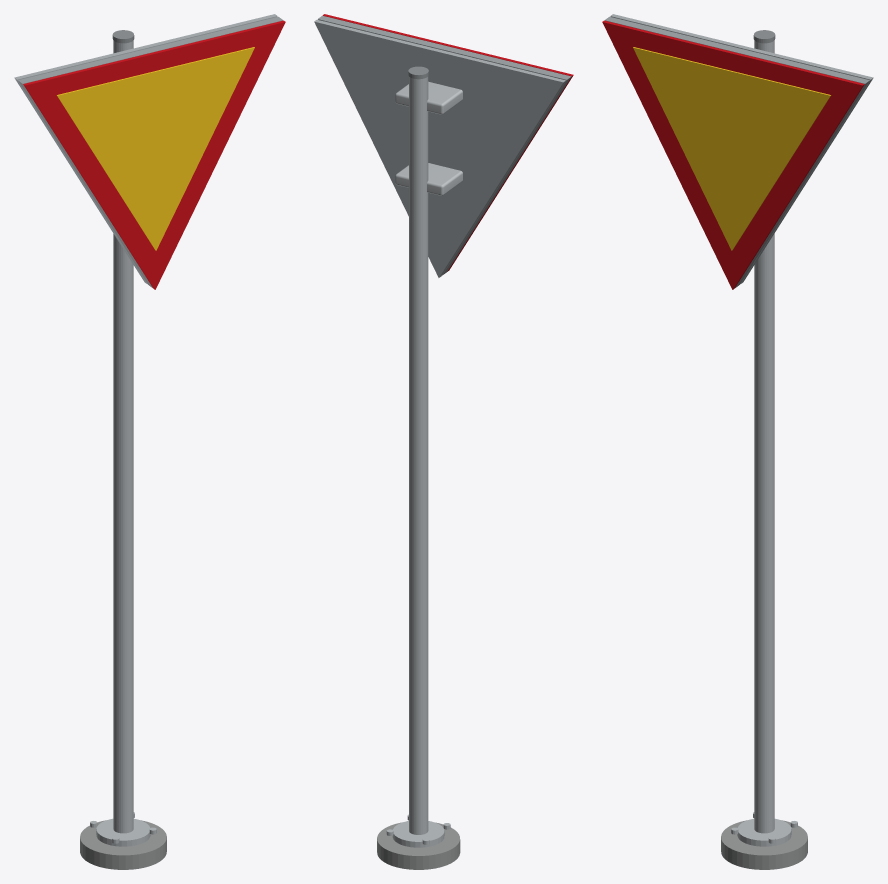
Rendered from pl-a7-ustap-pierwszenstwa.glb.
3 renders of one model, left to right at view 1: azimuth 30°, elevation 25°; view 2: azimuth 150°, elevation 25°; view 3: azimuth 330°, elevation 25°, orthographic. The views are drawn at different scales.
Parts seen in each view (by area): view 1: A-7 proper yellow centre, A-7 full red reflector triangle, Steel pole OD 60 mm hot-dip galvanized, Concrete base collar, Extruded metal rolled lip, 3D stamped steel reverse sheet, Mast foot flange 160mm; view 2: 3D stamped steel reverse sheet, Steel pole OD 60 mm hot-dip galvanized, Concrete base collar, Extruded metal rolled lip, Folded sign-to-mast omega bracket, Folded sign-to-mast omega bracket.001, A-7 full red reflector triangle, Mast foot flange 160mm; view 3: A-7 proper yellow centre, A-7 full red reflector triangle, Steel pole OD 60 mm hot-dip galvanized, Concrete base collar, Extruded metal rolled lip, 3D stamped steel reverse sheet, Mast foot flange 160mm.
Boxes of the visible parts, box(x1,y1,x2,y2) form: A-7 proper yellow centre: box(57, 47, 254, 250); A-7 full red reflector triangle: box(23, 20, 285, 289); Steel pole OD 60 mm hot-dip galvanized: box(113, 40, 133, 833); Concrete base collar: box(80, 820, 166, 869); Extruded metal rolled lip: box(18, 16, 283, 287); 3D stamped steel reverse sheet: box(14, 14, 277, 283); Mast foot flange 160mm: box(96, 818, 150, 846); 3D stamped steel reverse sheet: box(314, 19, 565, 277); Steel pole OD 60 mm hot-dip galvanized: box(409, 76, 428, 834); Concrete base collar: box(377, 822, 460, 869); Extruded metal rolled lip: box(318, 15, 571, 275); Folded sign-to-mast omega bracket: box(395, 163, 462, 195); Folded sign-to-mast omega bracket.001: box(395, 81, 462, 114); A-7 full red reflector triangle: box(323, 14, 573, 271); Mast foot flange 160mm: box(392, 821, 444, 847); A-7 proper yellow centre: box(633, 47, 830, 250); A-7 full red reflector triangle: box(602, 20, 864, 289); Steel pole OD 60 mm hot-dip galvanized: box(754, 40, 774, 833); Concrete base collar: box(721, 820, 807, 869); Extruded metal rolled lip: box(604, 16, 869, 287); 3D stamped steel reverse sheet: box(610, 14, 873, 283); Mast foot flange 160mm: box(737, 818, 791, 846).
Bounding box in the file's own units: 0.9 × 2.71 × 0.326.
